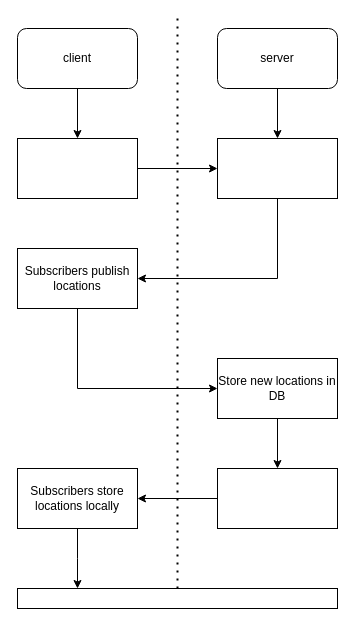
The diagram is 355 pixels wide and 626 high, and some of its shapes have lost their labels. Here are the shapes that lost their labels. From the top down, the centre of each, then its label:
point 77,168: Request for other devices' locations
point 277,168: Publish "requestLocation" event
point 277,498: Publish "storeLocation" event
